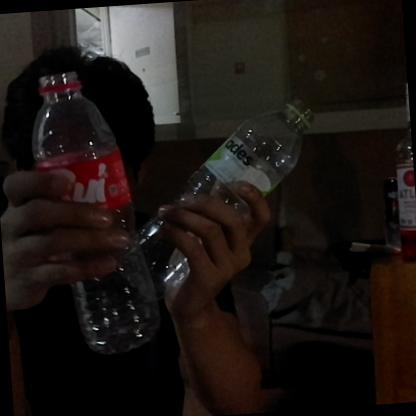plastic_bottles: (26, 60, 165, 360), (132, 96, 330, 300)
